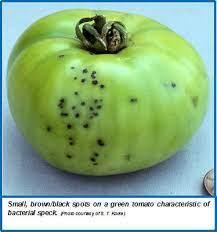tomato bacterial spot: (4, 6, 217, 180)
